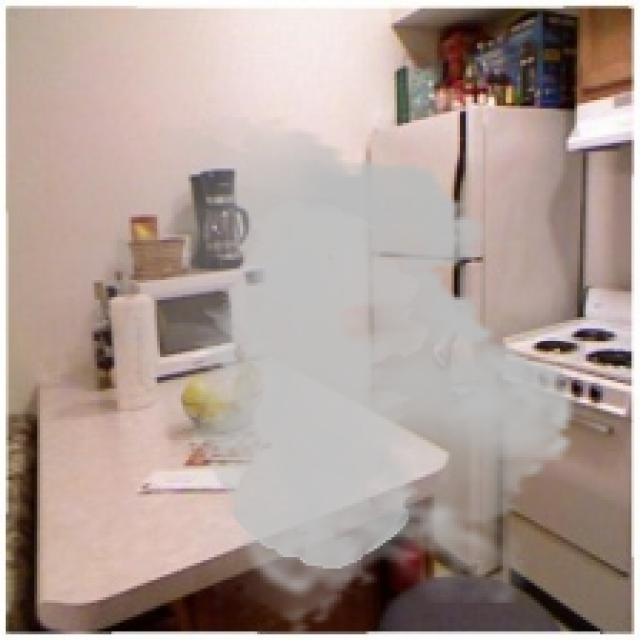smoke: (32, 117, 597, 637)
